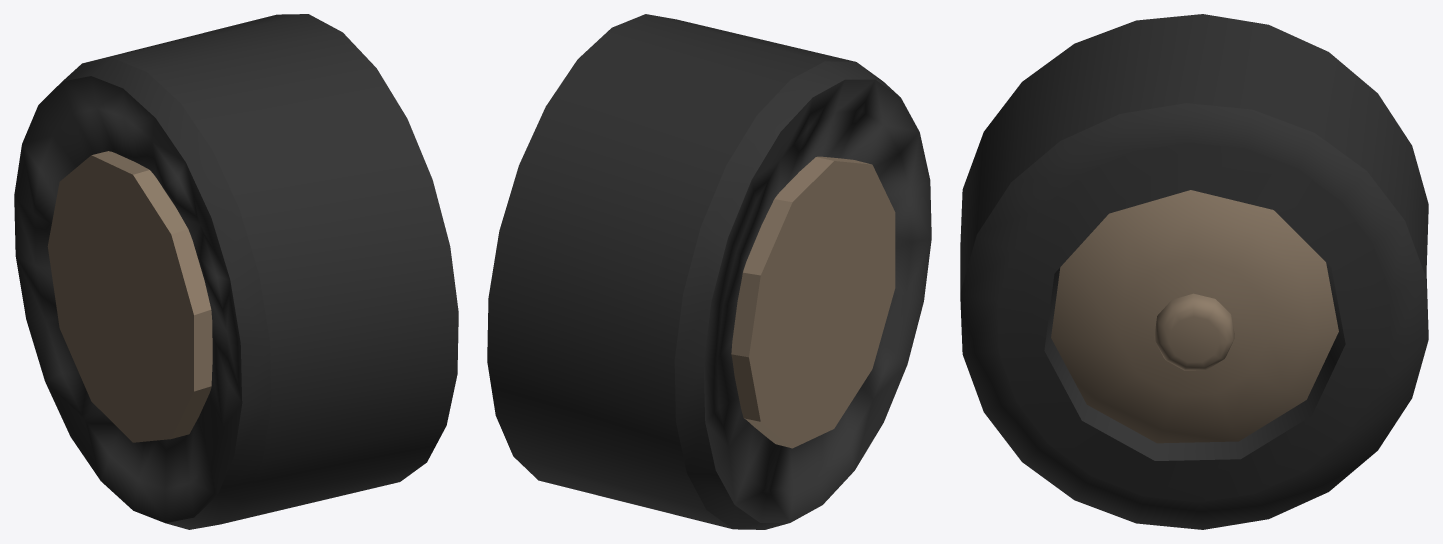
The model's file is Scrappy_wheel.fbx.
3 renders of one model, left to right at view 1: azimuth 30°, elevation 25°; view 2: azimuth 150°, elevation 25°; view 3: azimuth 270°, elevation 25°, orthographic. The views are drawn at different scales.
Visible parts, largest first — view 1: ScrappyWheel; view 2: ScrappyWheel; view 3: ScrappyWheel.
Part boxes in pixels (left/top/right/bottom): ScrappyWheel: left=14, top=14, right=458, bottom=529; ScrappyWheel: left=487, top=14, right=931, bottom=529; ScrappyWheel: left=960, top=14, right=1428, bottom=529.
Size of the model in its own units: 0.6963 by 1.09 by 1.1.
